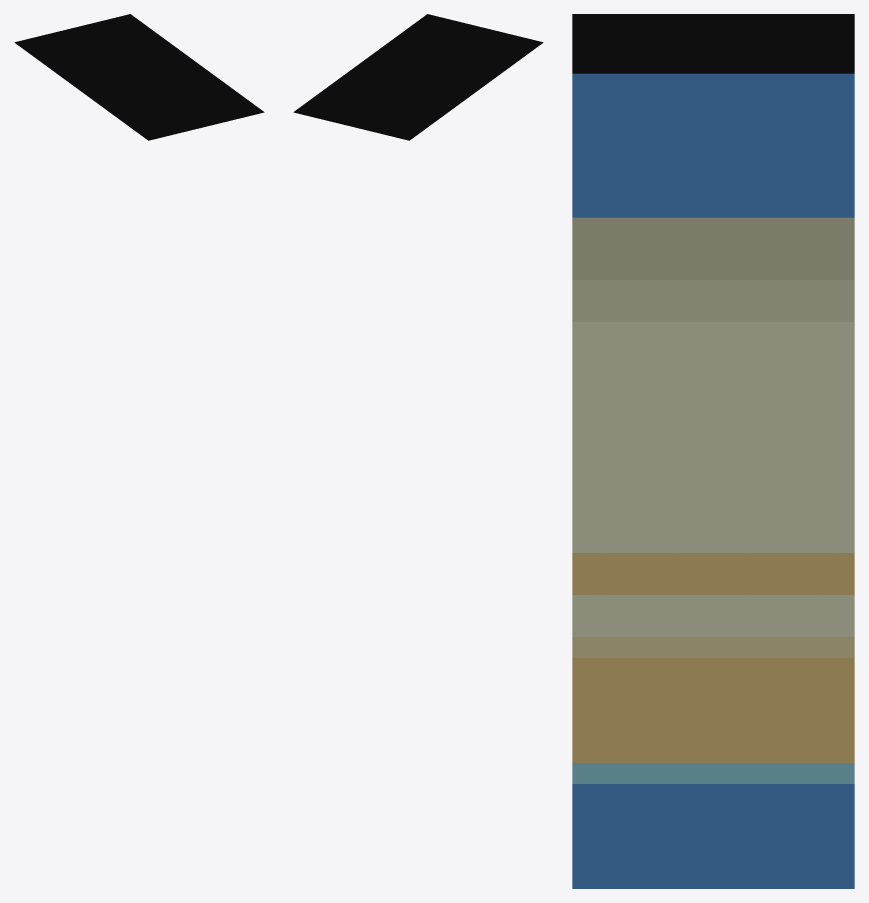
3 views of the same model, side by side, from view 1: azimuth 30°, elevation 25°; view 2: azimuth 150°, elevation 25°; view 3: azimuth 270°, elevation 25° (orthographic). The views are drawn at different scales.
Bounding box in the file's own units: 0.5 × 3.19 × 1.
Materials: 2 (2 with a texture image).
